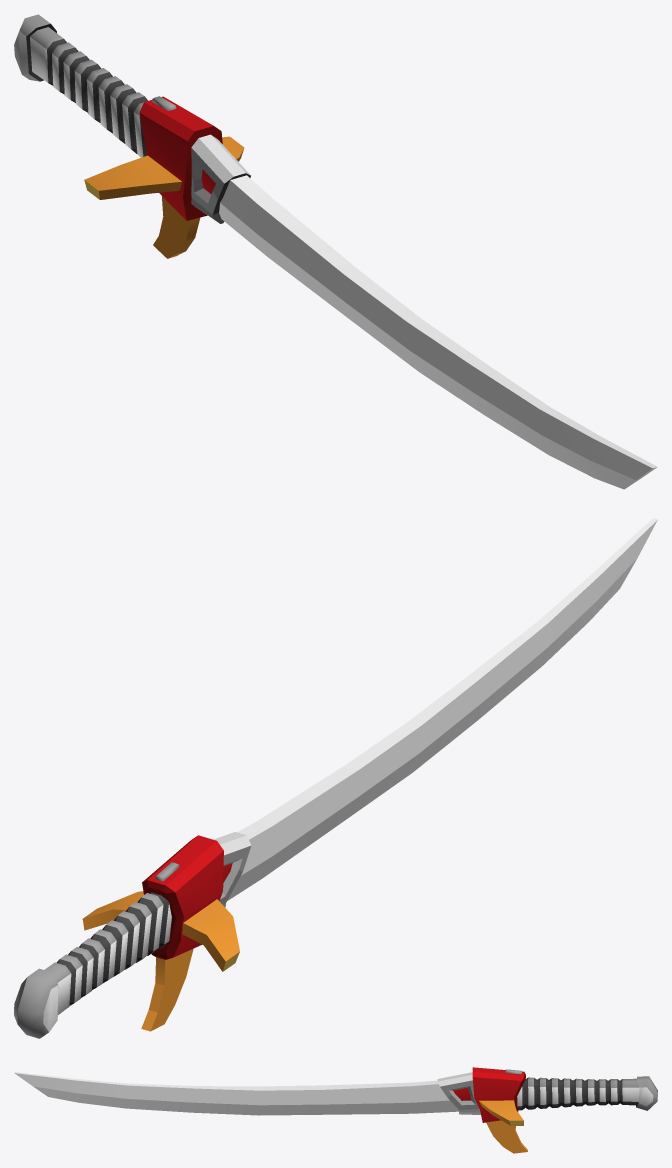
The model's file is Sword.fbx.
The picture shows the model from 3 angles, top to bottom: view 1: azimuth 30°, elevation 25°; view 2: azimuth 150°, elevation 25°; view 3: azimuth 270°, elevation 25°; orthographic projection. The views are drawn at different scales.
Visible parts, largest first — view 1: Sword; view 2: Sword; view 3: Sword.
Part boxes in pixels (left/top/right/bottom): Sword: left=14, top=14, right=657, bottom=489; Sword: left=14, top=518, right=657, bottom=1038; Sword: left=14, top=1067, right=657, bottom=1153.
Bounding box in the file's own units: 18.14 × 19.19 × 137.
Materials: 1 (1 with a texture image).
